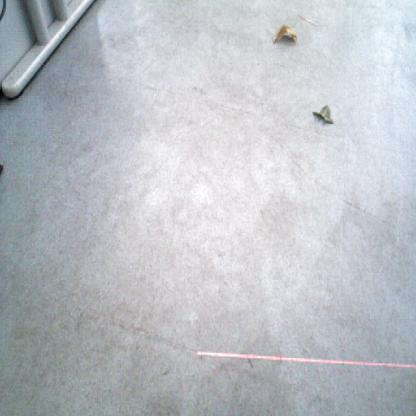dirty: (311, 103, 334, 126), (272, 24, 298, 44), (296, 12, 320, 28)
mark: (265, 131, 333, 195), (357, 267, 383, 362), (343, 198, 385, 221), (401, 19, 415, 43), (191, 83, 208, 96), (243, 351, 254, 369), (275, 344, 282, 362), (160, 369, 170, 377), (259, 99, 266, 107)
